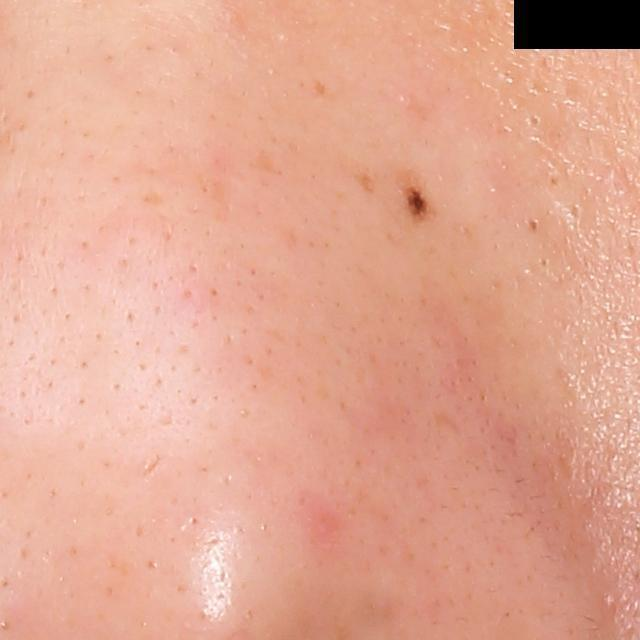comedo: (518, 106, 551, 137), (561, 196, 590, 228), (519, 212, 550, 241)
nevus: (393, 170, 435, 226)
